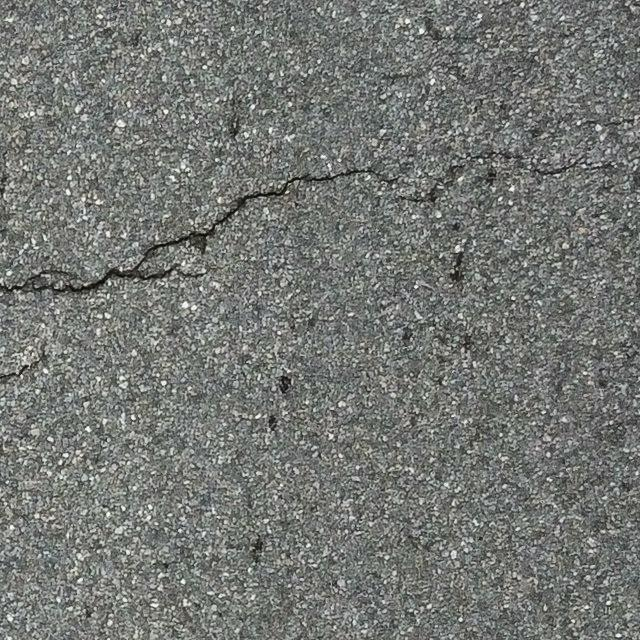TransverseCrack: (1, 150, 585, 296)
